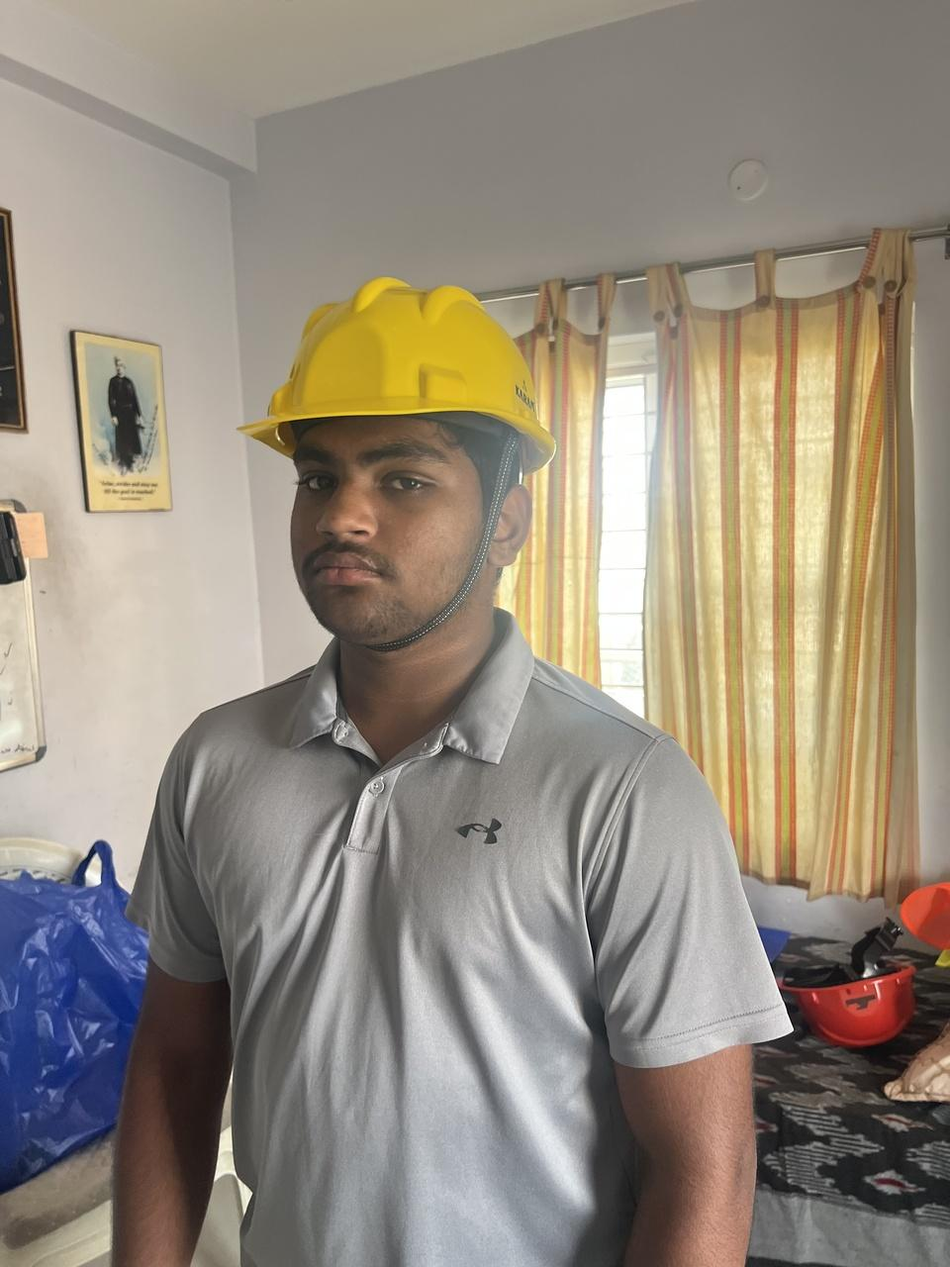Helmet: (237, 277, 557, 483)
No_Vest: (124, 611, 793, 1267)
Person: (112, 276, 796, 1267)
